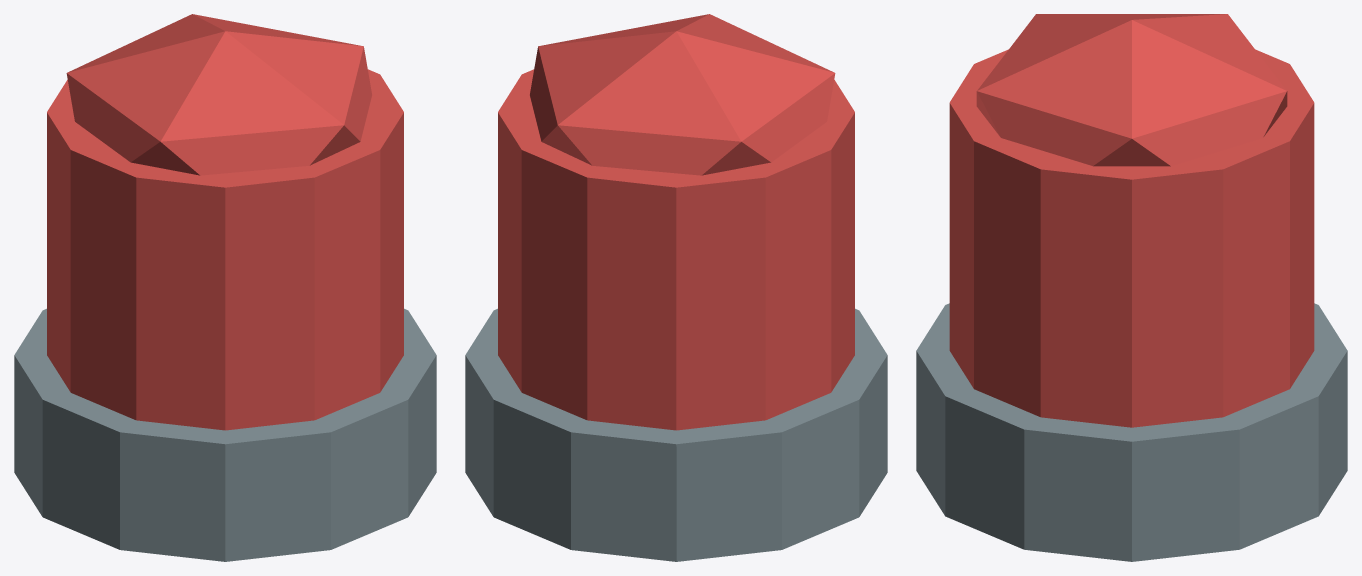
Rendered from Prop_AlarmBeacon.fbx.
3 views of the same model, side by side, from view 1: azimuth 30°, elevation 25°; view 2: azimuth 150°, elevation 25°; view 3: azimuth 270°, elevation 25° (orthographic). The views are drawn at different scales.
Visible parts, largest first — view 1: RedDome, Base, Cap.003; view 2: RedDome, Base, Cap.003; view 3: RedDome, Base, Cap.003.
Part boxes in pixels (x1=…): RedDome: x1=47, y1=69, x2=403, y2=430; Base: x1=14, y1=308, x2=436, y2=561; Cap.003: x1=66, y1=14, x2=371, y2=175; RedDome: x1=498, y1=69, x2=854, y2=430; Base: x1=465, y1=308, x2=887, y2=561; Cap.003: x1=530, y1=14, x2=835, y2=175; RedDome: x1=949, y1=49, x2=1314, y2=427; Base: x1=916, y1=303, x2=1347, y2=561; Cap.003: x1=976, y1=14, x2=1287, y2=166.
Size of the model in its own units: 0.26 by 0.3 by 0.26.
